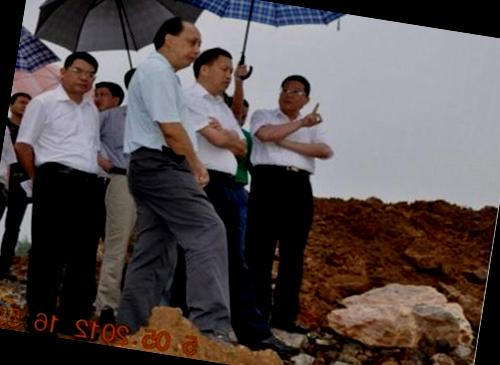no_helmet: (151, 10, 207, 74), (190, 41, 240, 97), (56, 46, 104, 101), (271, 70, 316, 117), (88, 73, 126, 115), (8, 87, 36, 121)
